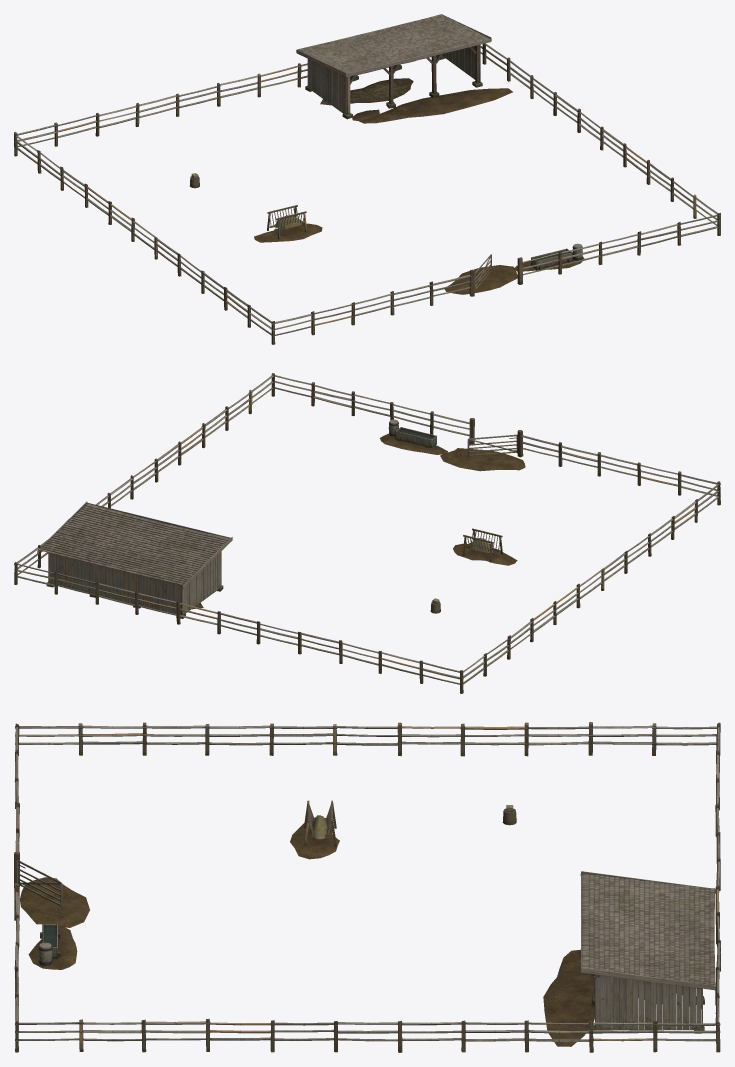
The model's file is horse_paddock.glb.
3 renders of one model, top to bottom at view 1: azimuth 30°, elevation 25°; view 2: azimuth 150°, elevation 25°; view 3: azimuth 270°, elevation 25°, orthographic. The views are drawn at different scales.
Parts seen in each view (by area): view 1: horse_paddock_LOD0; view 2: horse_paddock_LOD0; view 3: horse_paddock_LOD0.
Boxes of the visible parts, left/top/right/bottom form: horse_paddock_LOD0: left=14, top=14, right=720, bottom=344; horse_paddock_LOD0: left=14, top=373, right=720, bottom=693; horse_paddock_LOD0: left=14, top=722, right=720, bottom=1052.
Size of what is drawn, in the model's own units: 29.85 by 3.26 by 29.84.
1 material, 1 textured.
